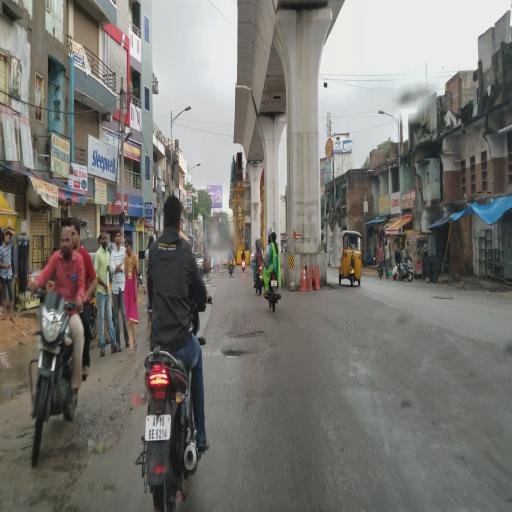street_light_0: (170, 100, 198, 124), (188, 154, 204, 178)
